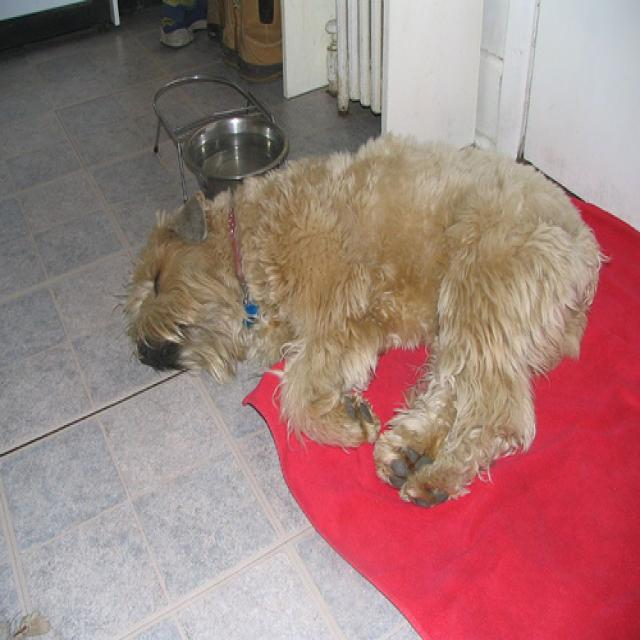dog-wheaten_terrier: (118, 130, 611, 522)
